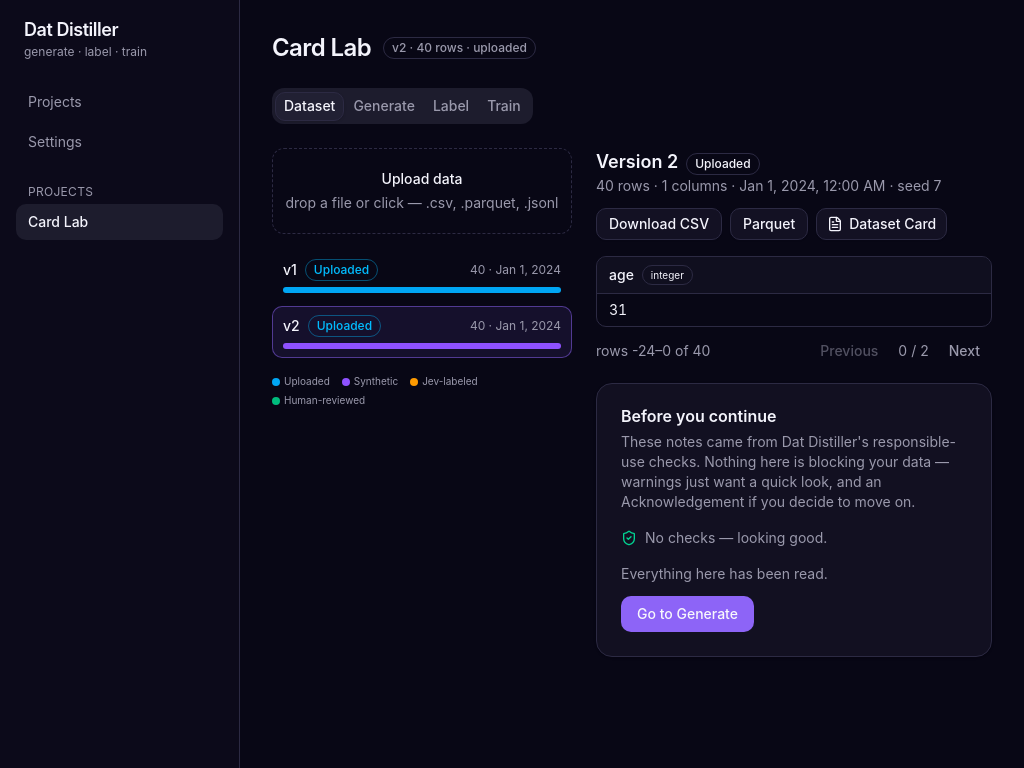
Dataset Cards — from the history panel › opens from the selected version and renders it as a document
Click the button "Dataset Card" at (882, 224), box x1=816 y1=208 x2=947 y2=240
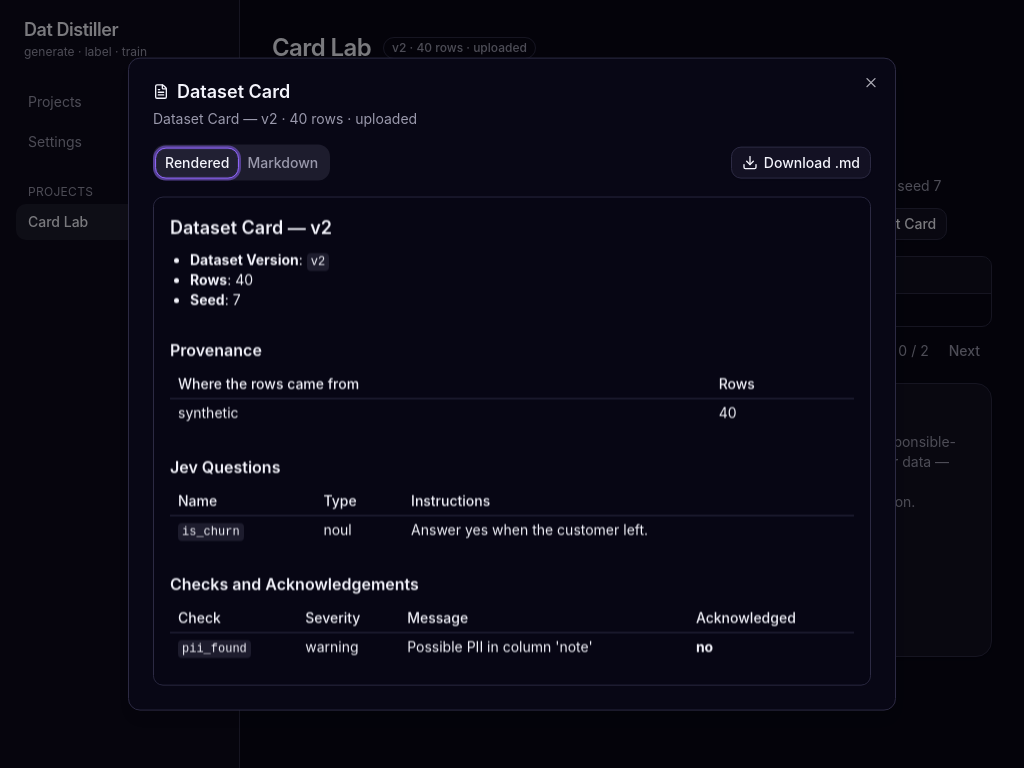
Check: the heading "Dataset Card — v2" is shown, box x1=170 y1=217 x2=332 y2=238
Check: the heading "Provenance" is shown, box x1=170 y1=340 x2=262 y2=360
